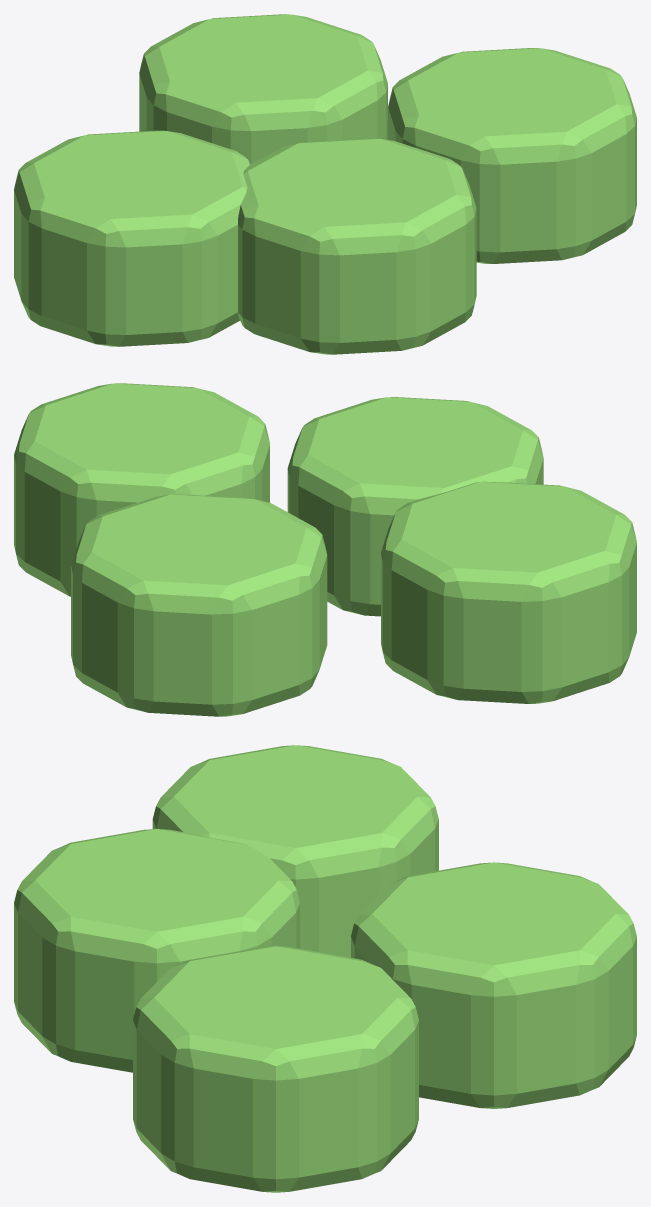
File: VegetableChopped.fbx
3 renders of one model, top to bottom at view 1: azimuth 30°, elevation 25°; view 2: azimuth 150°, elevation 25°; view 3: azimuth 270°, elevation 25°, orthographic. The views are drawn at different scales.
Parts seen in each view (by area): view 1: Slice_3, Slice_0, Slice_2, Slice_1; view 2: Slice_1, Slice_0, Slice_2, Slice_3; view 3: Slice_2, Slice_1, Slice_3, Slice_0.
Boxes of the visible parts, <box> form: Slice_3: <box>238,138,476,354</box>; Slice_0: <box>14,130,249,346</box>; Slice_2: <box>388,48,636,263</box>; Slice_1: <box>139,14,387,164</box>; Slice_1: <box>71,494,327,716</box>; Slice_0: <box>381,481,636,703</box>; Slice_2: <box>14,383,269,596</box>; Slice_3: <box>287,397,543,616</box>; Slice_2: <box>133,946,418,1192</box>; Slice_1: <box>351,862,636,1108</box>; Slice_3: <box>14,829,299,1072</box>; Slice_0: <box>152,745,438,957</box>.
Bounding box in the file's own units: 0.7688 × 0.16 × 0.6288.
